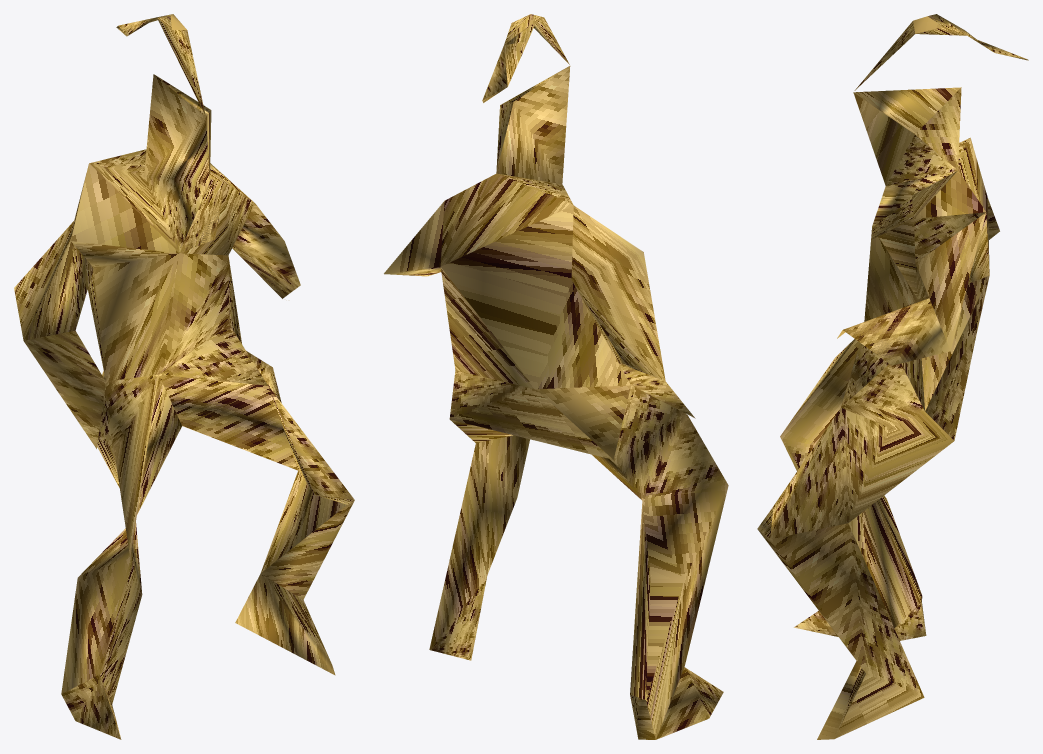
Rendered from ae_knight_rider_royal_lod2.glb.
3 views of the same model, side by side, from view 1: azimuth 30°, elevation 25°; view 2: azimuth 150°, elevation 25°; view 3: azimuth 270°, elevation 25° (orthographic). The views are drawn at different scales.
Parts seen in each view (by area): view 1: output_unwrapped; view 2: output_unwrapped; view 3: output_unwrapped.
Boxes of the visible parts, x1=… form: output_unwrapped: x1=14, y1=14, x2=354, y2=739; output_unwrapped: x1=384, y1=14, x2=728, y2=739; output_unwrapped: x1=757, y1=14, x2=1028, y2=739.
Size of the model in its own units: 0.7999 by 1.9 by 0.6969.
1 material, 1 textured.
